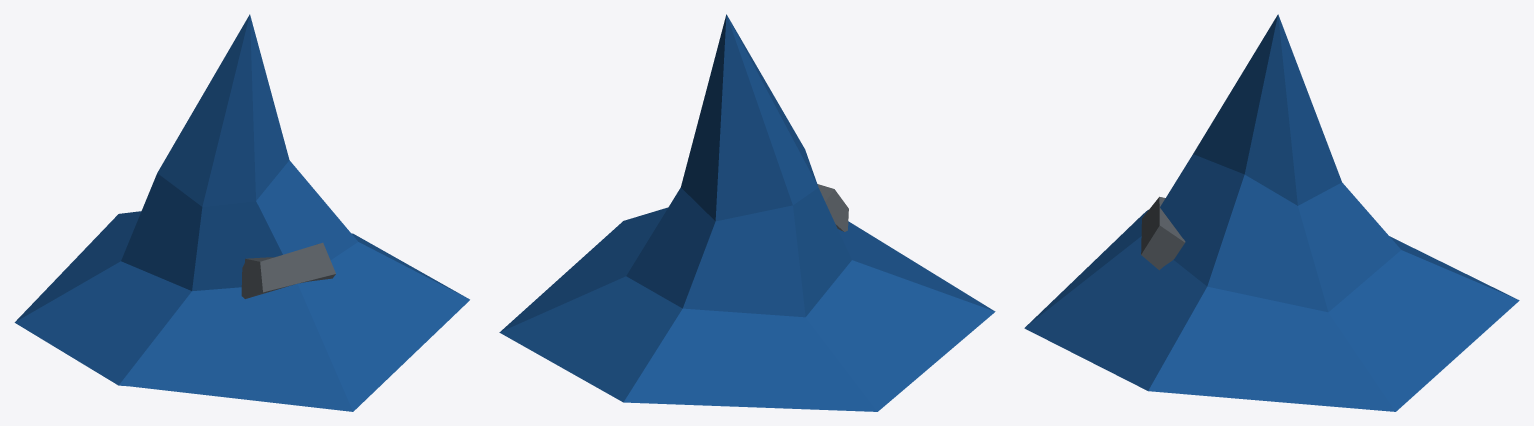
The model's file is wizard_hat_03.fbx.
3 views of the same model, side by side, from view 1: azimuth 30°, elevation 25°; view 2: azimuth 150°, elevation 25°; view 3: azimuth 270°, elevation 25° (orthographic). The views are drawn at different scales.
Visible parts, largest first — view 1: wizard_hat_03; view 2: wizard_hat_03; view 3: wizard_hat_03.
Part boxes in pixels (<box>): wizard_hat_03: <box>14,14,469,411</box>; wizard_hat_03: <box>499,14,995,411</box>; wizard_hat_03: <box>1024,14,1519,411</box>.
Size of the model in its own units: 2.1 by 1.74 by 2.43.
